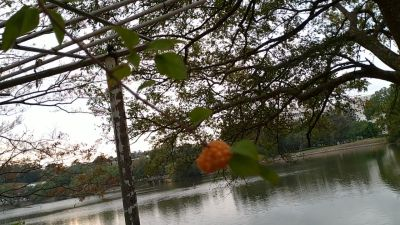eggs: (196, 138, 235, 173)
